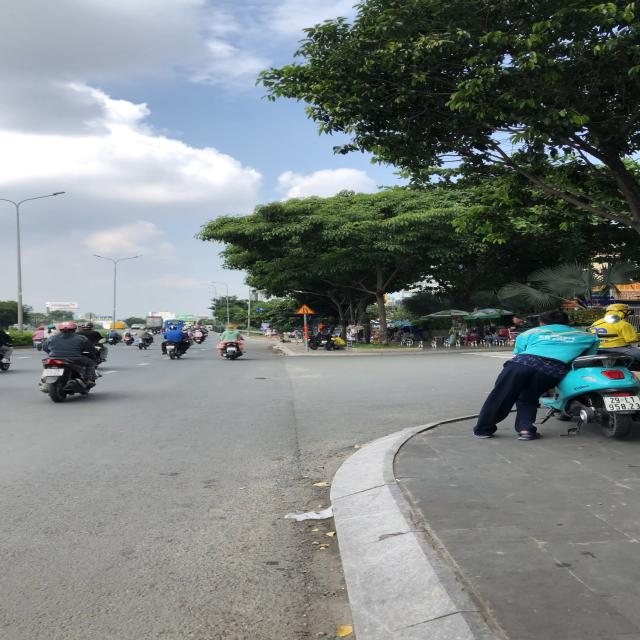Bien bao duong bi thu hep: (295, 304, 318, 314)
